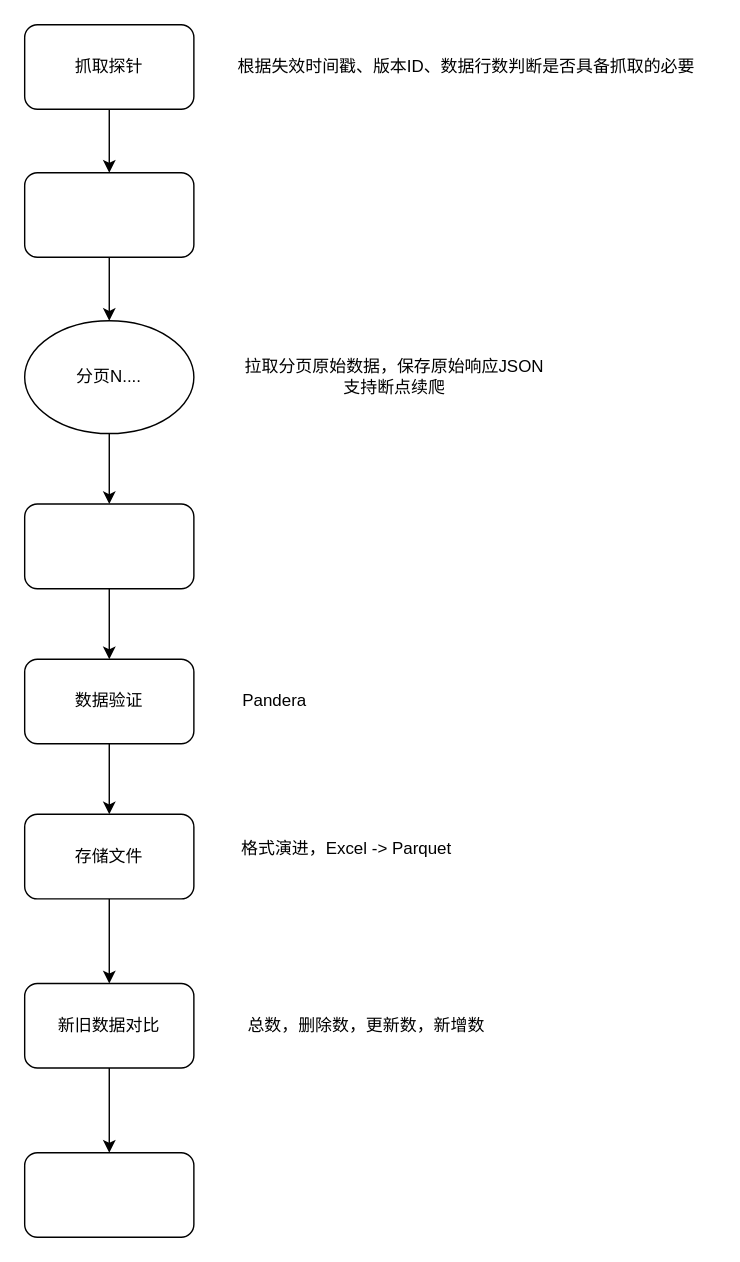
This 740x1262 diagram has some shape labels left out. The shapes that lost their labels are listed below. From the top down, each one's centre as x and y in pixels, then its label:
point 108,214: 抓取
point 108,546: 合并清洗
point 108,1194: 汇总报告
